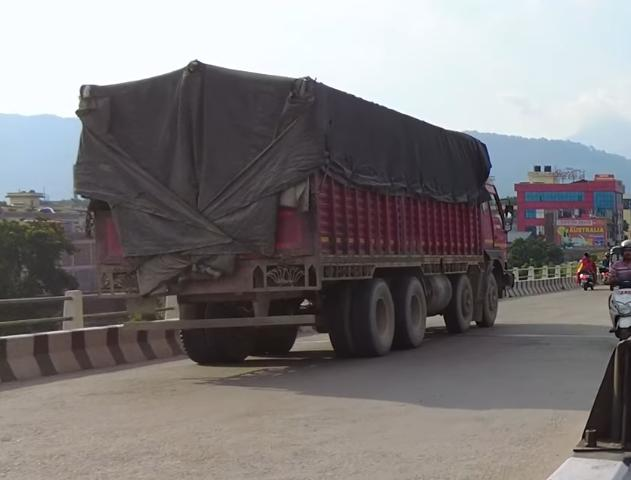scooter: (604, 266, 631, 346)
truck: (72, 58, 516, 364)
